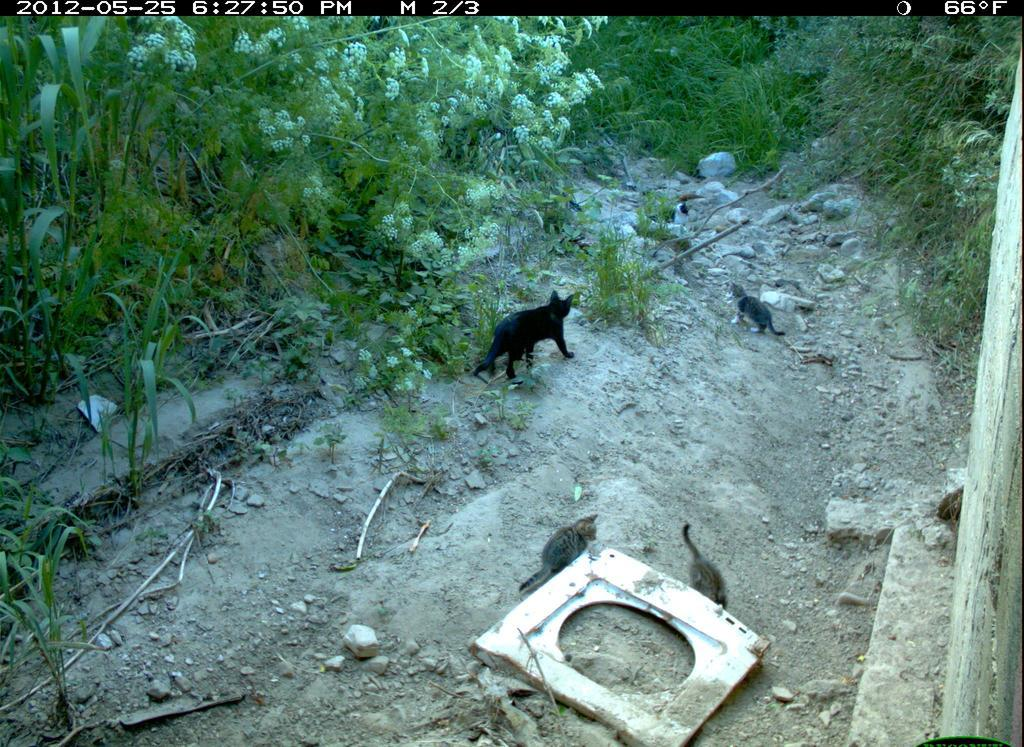cat: (472, 287, 579, 392), (519, 509, 610, 596), (671, 520, 730, 616), (725, 274, 786, 341)
